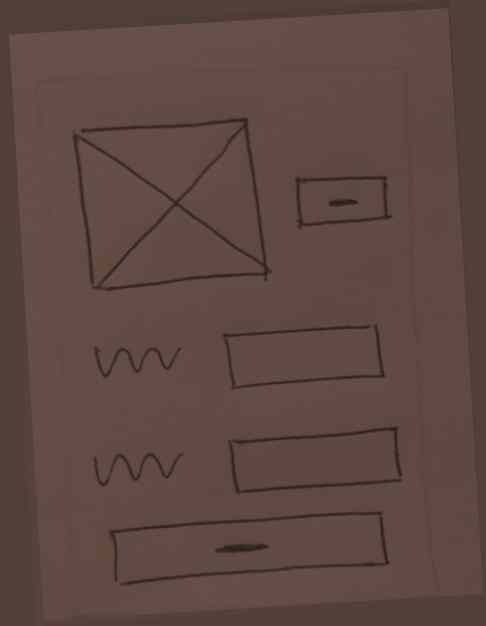button: (102, 505, 397, 597), (284, 154, 401, 239)
image: (63, 112, 281, 306)
text: (85, 437, 193, 507), (82, 329, 188, 394)
text_input: (222, 419, 410, 505), (217, 313, 394, 397)
